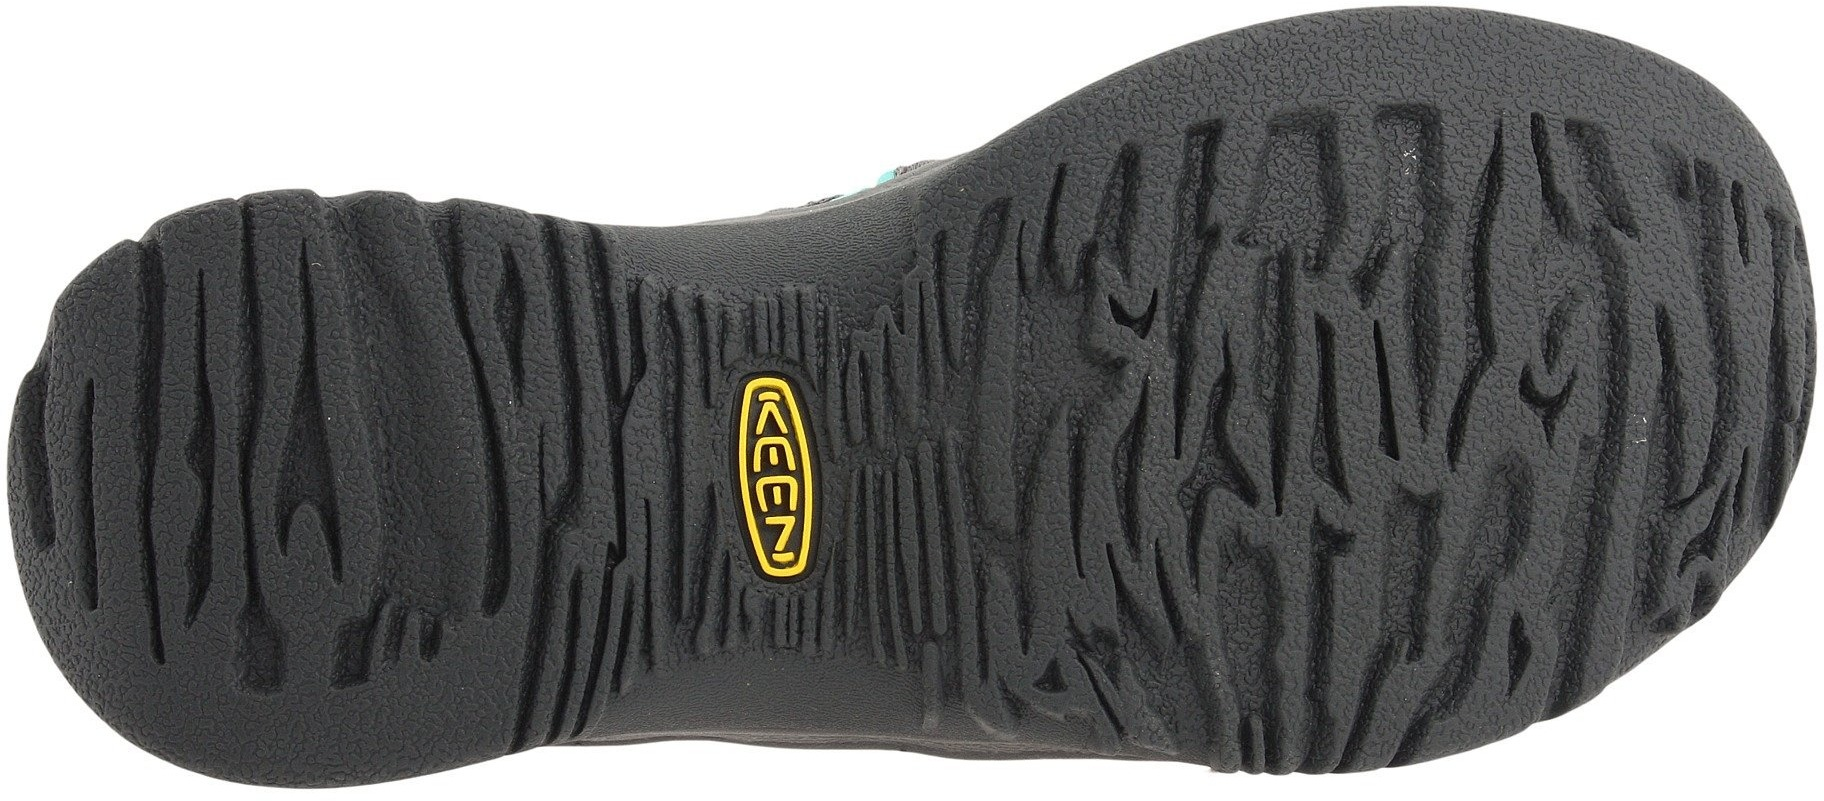exclude: (596, 1, 1067, 298)
other: (1081, 87, 1670, 655), (111, 258, 591, 711)
text: (731, 482, 829, 586), (735, 371, 831, 474)
